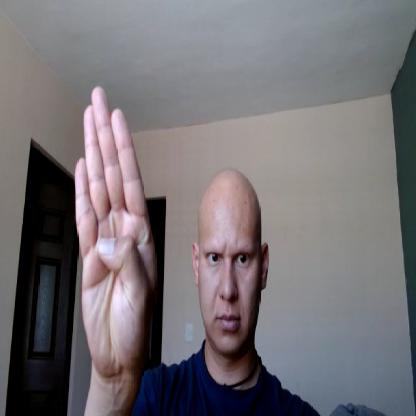B: (73, 83, 158, 376)
